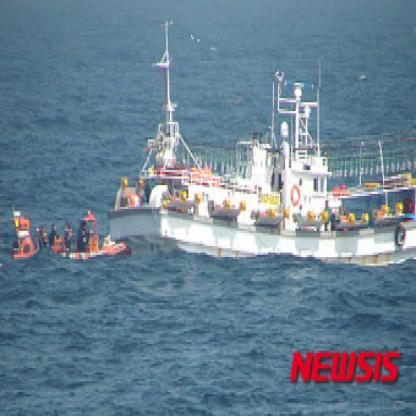fish-b: (105, 11, 415, 283)
